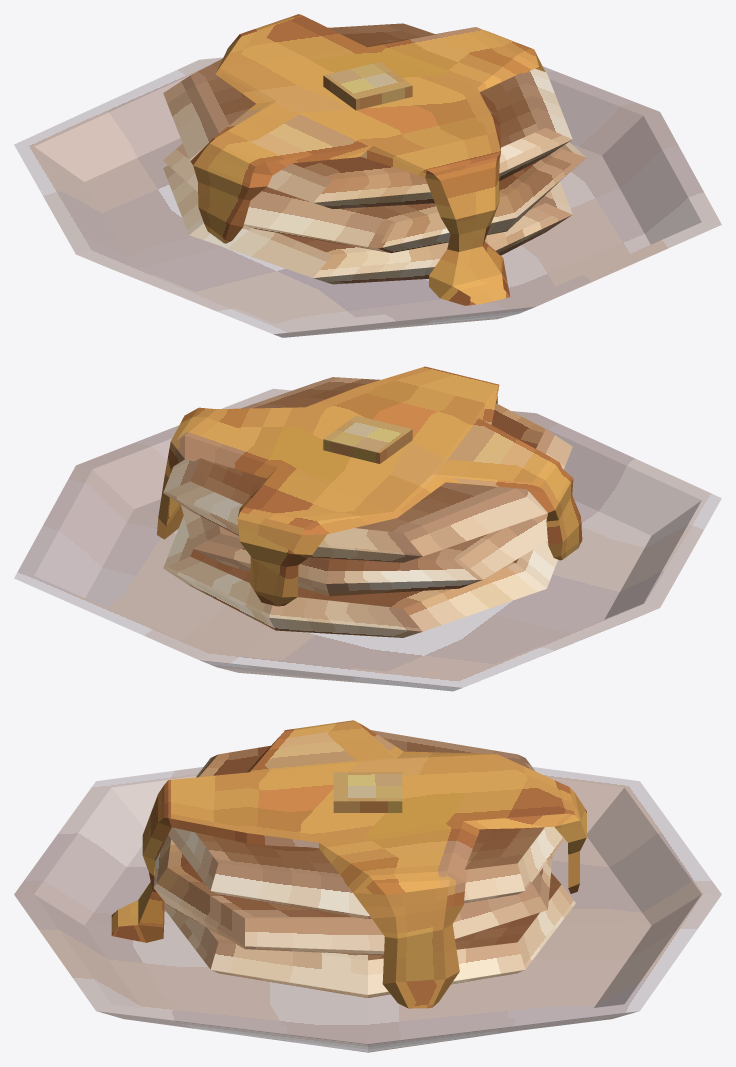
File: Pancake.fbx
3 views of the same model, one above another, from view 1: azimuth 30°, elevation 25°; view 2: azimuth 150°, elevation 25°; view 3: azimuth 270°, elevation 25° (orthographic). The views are drawn at different scales.
Parts seen in each view (by area): view 1: Cube; view 2: Cube; view 3: Cube.
Boxes of the visible parts, bbox=[...] form: Cube: bbox=[14, 14, 721, 337]; Cube: bbox=[14, 366, 721, 691]; Cube: bbox=[14, 720, 721, 1052].
Bounding box in the file's own units: 274 × 65.18 × 274.
1 material, 1 textured.
